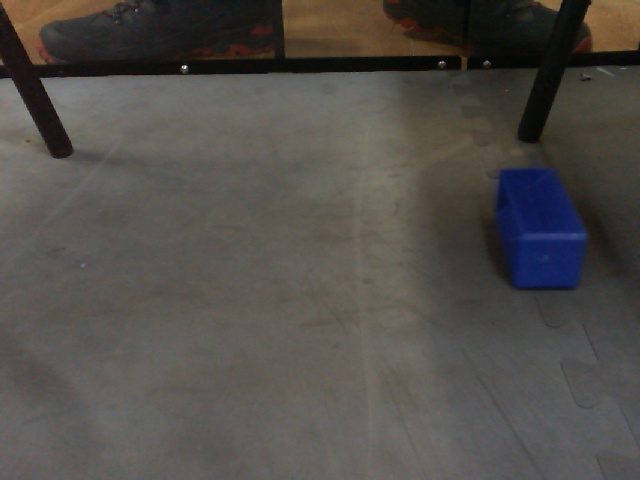BlueSample: (492, 163, 591, 295)
